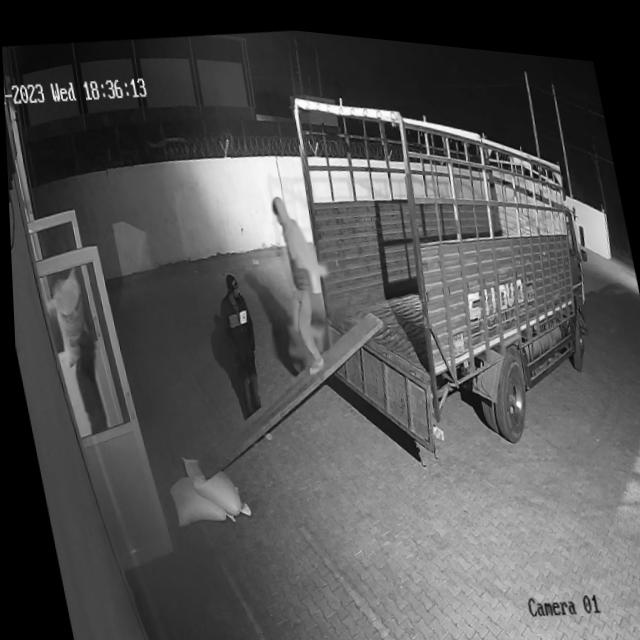sack: (177, 444, 245, 519), (44, 266, 93, 370), (164, 465, 228, 526)
